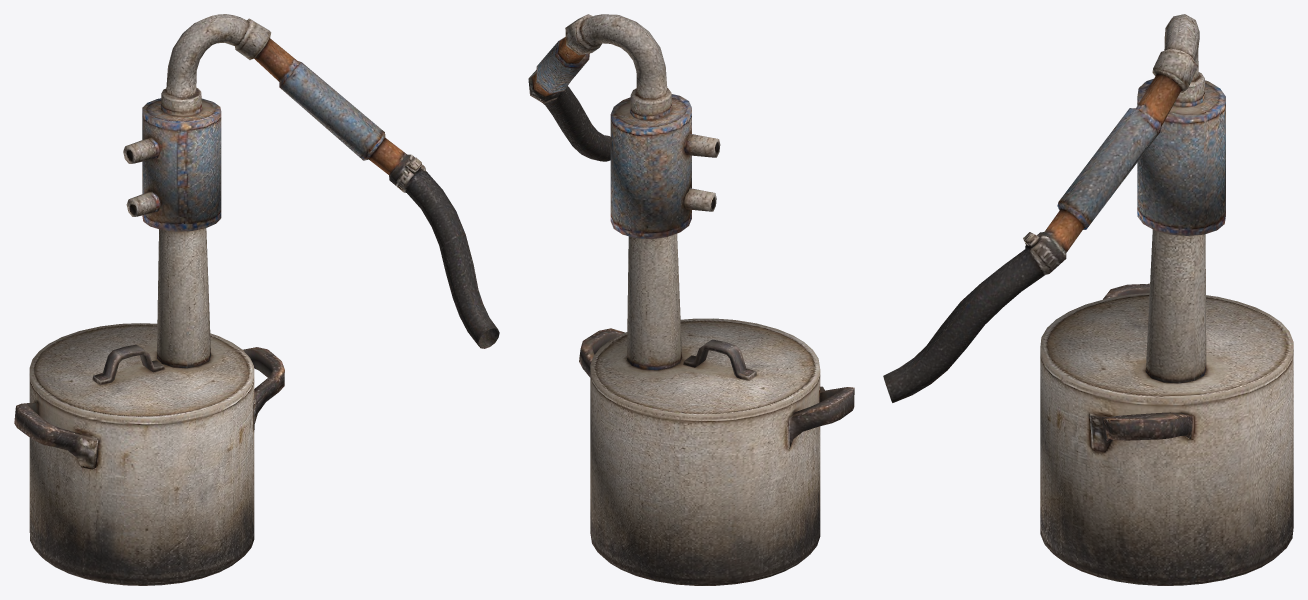
The model's file is RefluxStill.fbx.
3 renders of one model, left to right at view 1: azimuth 30°, elevation 25°; view 2: azimuth 150°, elevation 25°; view 3: azimuth 270°, elevation 25°, orthographic. The views are drawn at different scales.
Visible parts, largest first — view 1: tripo_node_a229838f; view 2: tripo_node_a229838f; view 3: tripo_node_a229838f.
Part boxes in pixels (bbox=[...]): tripo_node_a229838f: bbox=[14, 14, 499, 585]; tripo_node_a229838f: bbox=[528, 14, 854, 585]; tripo_node_a229838f: bbox=[883, 14, 1293, 585].
Size of the model in its own units: 0.769 by 0.9995 by 0.6655.
